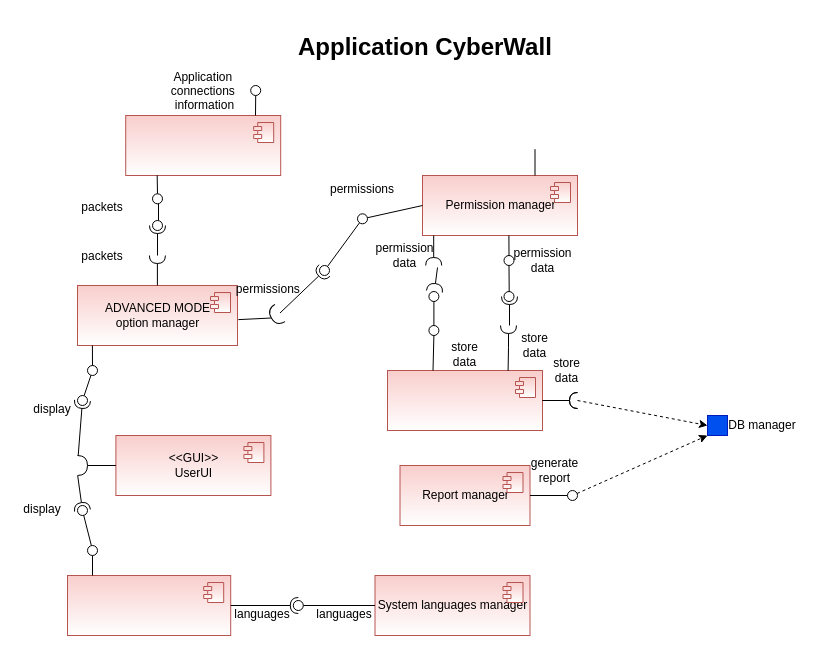
Image size: 814x653. Some labels were removed from this diagram. The shapes that lost their labels are listed below. From the top down, each one's centre as x and y in pixels, then its label:
point (203, 145): Packet capture manager
point (464, 400): Internal storage manager
point (148, 605): USER MODE option manager
